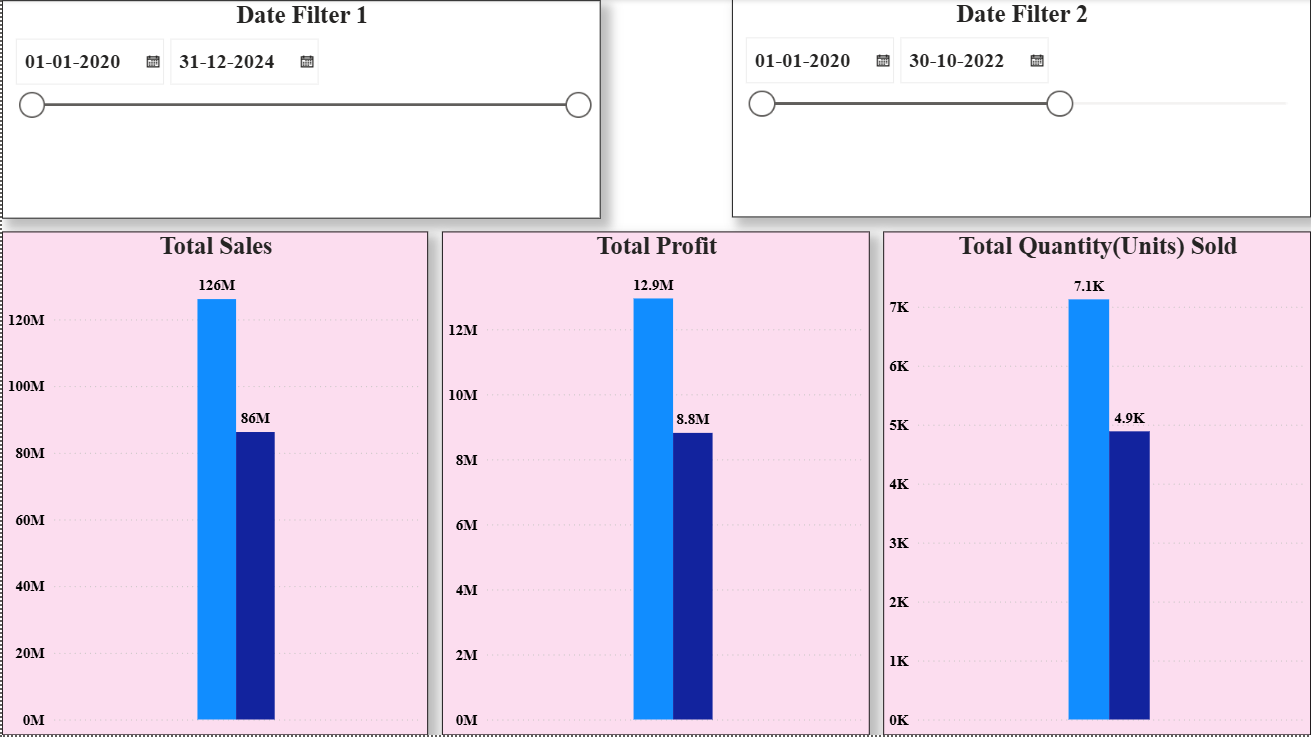

What the dashboard file says about the page in this screenshot:
{"tool":"powerbi","page":{"name":"Requirement 4 (approach 1 )  DAX ","canvas":[1280,720],"ordinal":2},"visuals":[{"type":"slicer","title":"Date Filter 1 ","fields":{"Values":["Date Table 1.Date"]},"box":[0,1.2,585.7,214],"z":0},{"type":"slicer","title":"Date Filter 2 ","fields":{"Values":["Date Table 2.Date"]},"box":[714.1,0,566.2,214],"z":1000},{"type":"clusteredColumnChart","title":"Total Sales","fields":{"Y":["Sum(FactTable.Net_Sales)","Date Table 1.Sum of Net Sales"]},"box":[0,227.4,417,492.8],"z":2000},{"type":"clusteredColumnChart","title":"Total Profit ","fields":{"Y":["Sum(FactTable.Profit)","Measures Table.Sum of Net Profit"]},"box":[430.4,227.4,418.2,492.8],"z":3000},{"type":"clusteredColumnChart","title":"Total Quantity(Units) Sold ","fields":{"Y":["Sum(FactTable.Units Sold)","Measures Table.Sum of Units Sold"]},"box":[862.1,227.4,418.2,492.8],"z":3001}]}

Visuals, with their boxes in screenshot pixels (x1, y1, x2, y2), scaled from the page's 1280x720 canvas onto the 1311x737 screenshot:
"Date Filter 1 " slicer: (left=0, top=1, right=600, bottom=220)
"Date Filter 2 " slicer: (left=731, top=0, right=1310, bottom=219)
"Total Sales" clusteredColumnChart: (left=0, top=233, right=427, bottom=736)
"Total Profit " clusteredColumnChart: (left=441, top=233, right=869, bottom=736)
"Total Quantity(Units) Sold " clusteredColumnChart: (left=883, top=233, right=1310, bottom=736)
